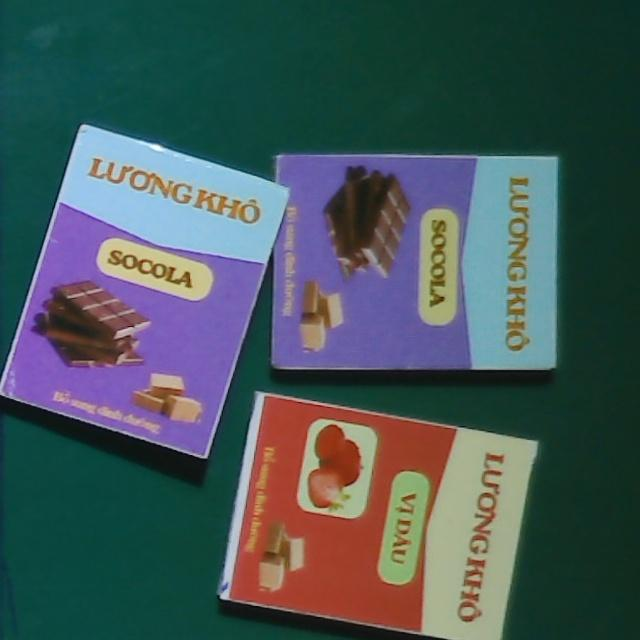dau: (216, 391, 539, 640)
socola: (0, 120, 290, 459), (272, 155, 555, 367)
